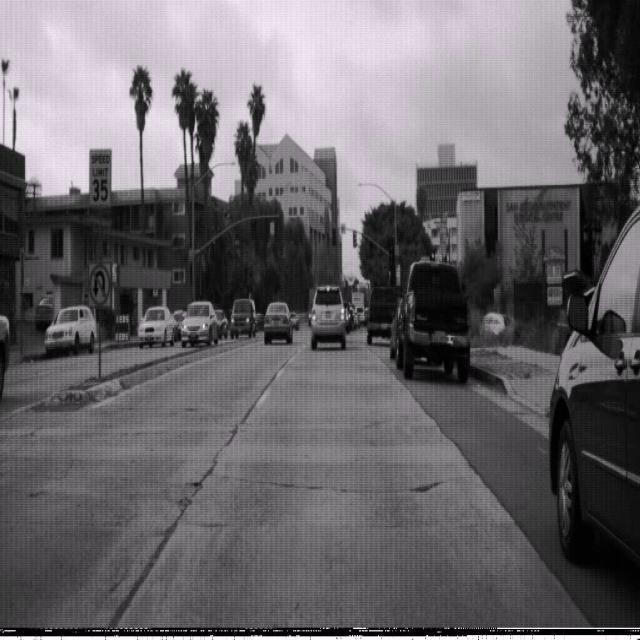speedLimit35: (88, 146, 112, 207)
